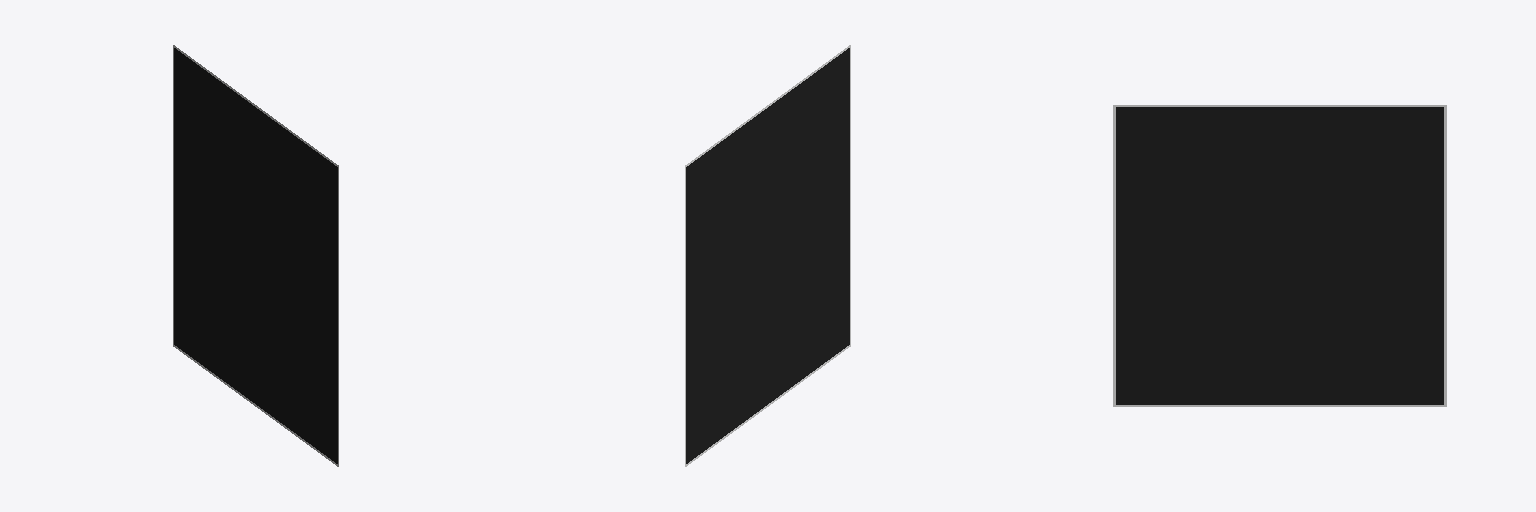
3 views of the same model, side by side, from view 1: azimuth 30°, elevation 25°; view 2: azimuth 150°, elevation 25°; view 3: azimuth 270°, elevation 25° (orthographic).
Parts seen in each view (by area): view 1: Wall:Wall; view 2: Wall:Wall; view 3: Wall:Wall.
Boxes of the visible parts, box(x1,y1,x2,y2) form: Wall:Wall: box(173, 45, 338, 466); Wall:Wall: box(685, 45, 850, 466); Wall:Wall: box(1113, 105, 1446, 406).
Size of the model in its own units: 0 by 2 by 2.
1 materials, 1 textured.